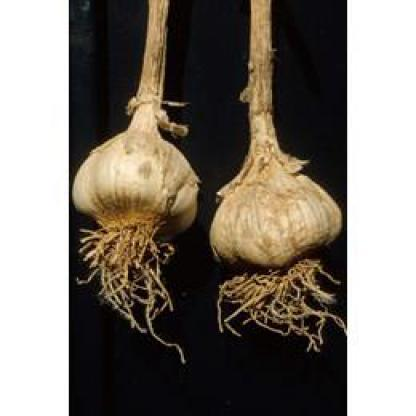garlic: (58, 115, 197, 274), (208, 150, 339, 312)
